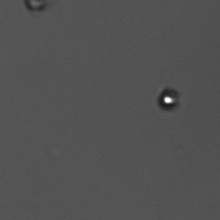Dead Cell: (23, 1, 49, 11)
Living Cell: (156, 87, 181, 111)
